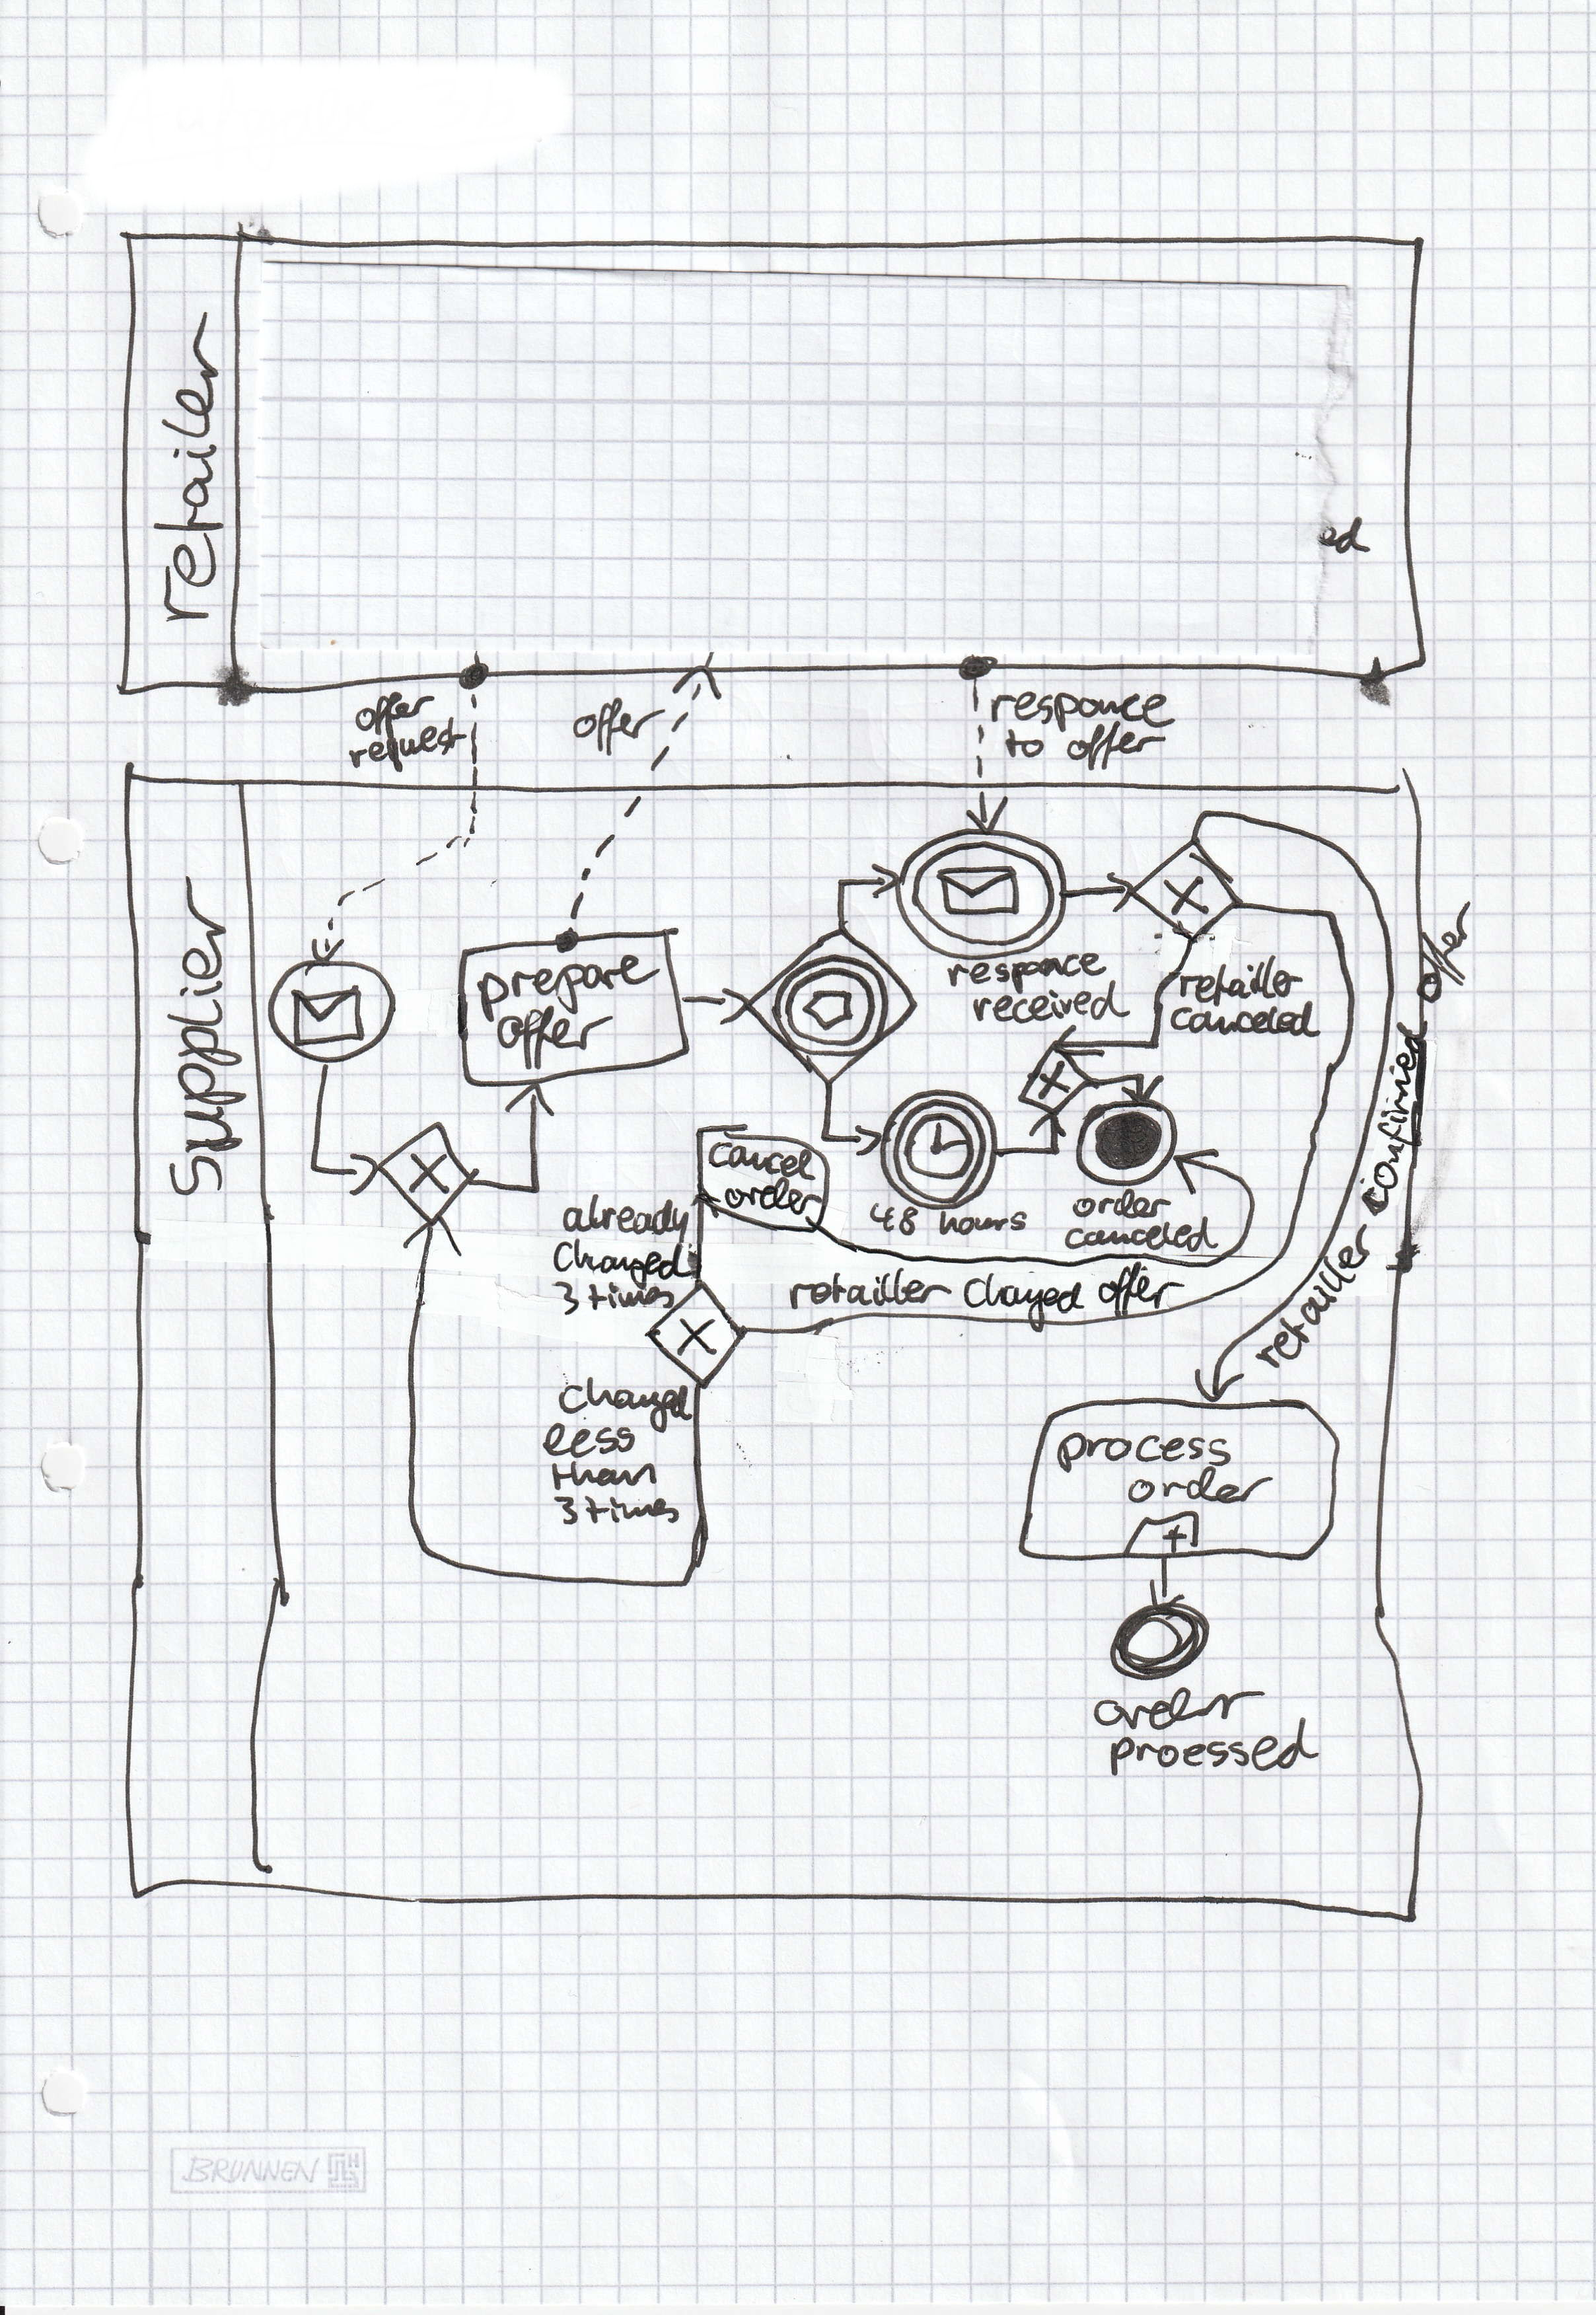3: (549, 1279, 581, 1318)
3times: (553, 1497, 674, 1529)
48: (862, 1203, 922, 1237)
Supplier: (164, 869, 248, 1198)
already: (556, 1200, 686, 1237)
cancel: (707, 1145, 816, 1182)
canceled: (1063, 1214, 1226, 1258)
cancelled: (1174, 1013, 1320, 1036)
changed: (549, 1379, 702, 1420), (955, 1270, 1084, 1316), (570, 1242, 683, 1284)
confirmed: (1358, 1022, 1429, 1219)
hours: (926, 1201, 1045, 1242)
less: (545, 1420, 648, 1460)
offer: (1043, 714, 1186, 779), (1415, 904, 1478, 1001), (487, 1015, 623, 1057), (572, 698, 669, 755), (350, 688, 442, 735), (1084, 1272, 1186, 1312)
order: (1124, 1462, 1278, 1511), (1096, 1687, 1251, 1733), (1059, 1187, 1190, 1224), (723, 1184, 827, 1219)
prepare: (480, 955, 655, 1020)
process: (1054, 1430, 1225, 1471)
processed: (1105, 1720, 1318, 1775)
reatiller: (787, 1267, 943, 1314)
received: (971, 983, 1119, 1029)
request: (347, 716, 466, 778)
response: (989, 684, 1175, 728), (945, 946, 1098, 994)
retailer: (155, 308, 229, 628), (1260, 1226, 1367, 1370)
retailler: (1177, 953, 1307, 1006)
than: (545, 1460, 660, 1490)
times: (574, 1275, 688, 1321)
to: (984, 723, 1072, 767)
